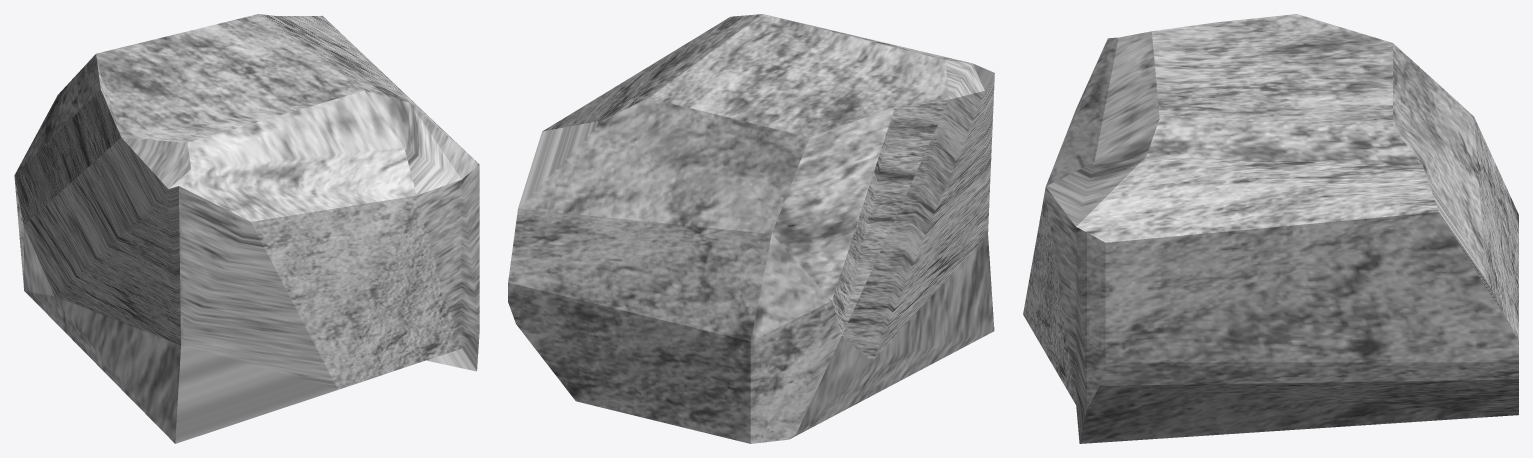
Rendered from rock1.glb.
3 renders of one model, left to right at view 1: azimuth 30°, elevation 25°; view 2: azimuth 150°, elevation 25°; view 3: azimuth 270°, elevation 25°, orthographic. The views are drawn at different scales.
Parts seen in each view (by area): view 1: 큐브; view 2: 큐브; view 3: 큐브.
Boxes of the visible parts, box(x1,y1,x2,y2) form: 큐브: box(14, 14, 479, 443); 큐브: box(508, 14, 994, 443); 큐브: box(1023, 14, 1518, 443).
Size of the model in its own units: 1.19 by 1.06 by 1.57.
Materials: 1 (1 with a texture image).
